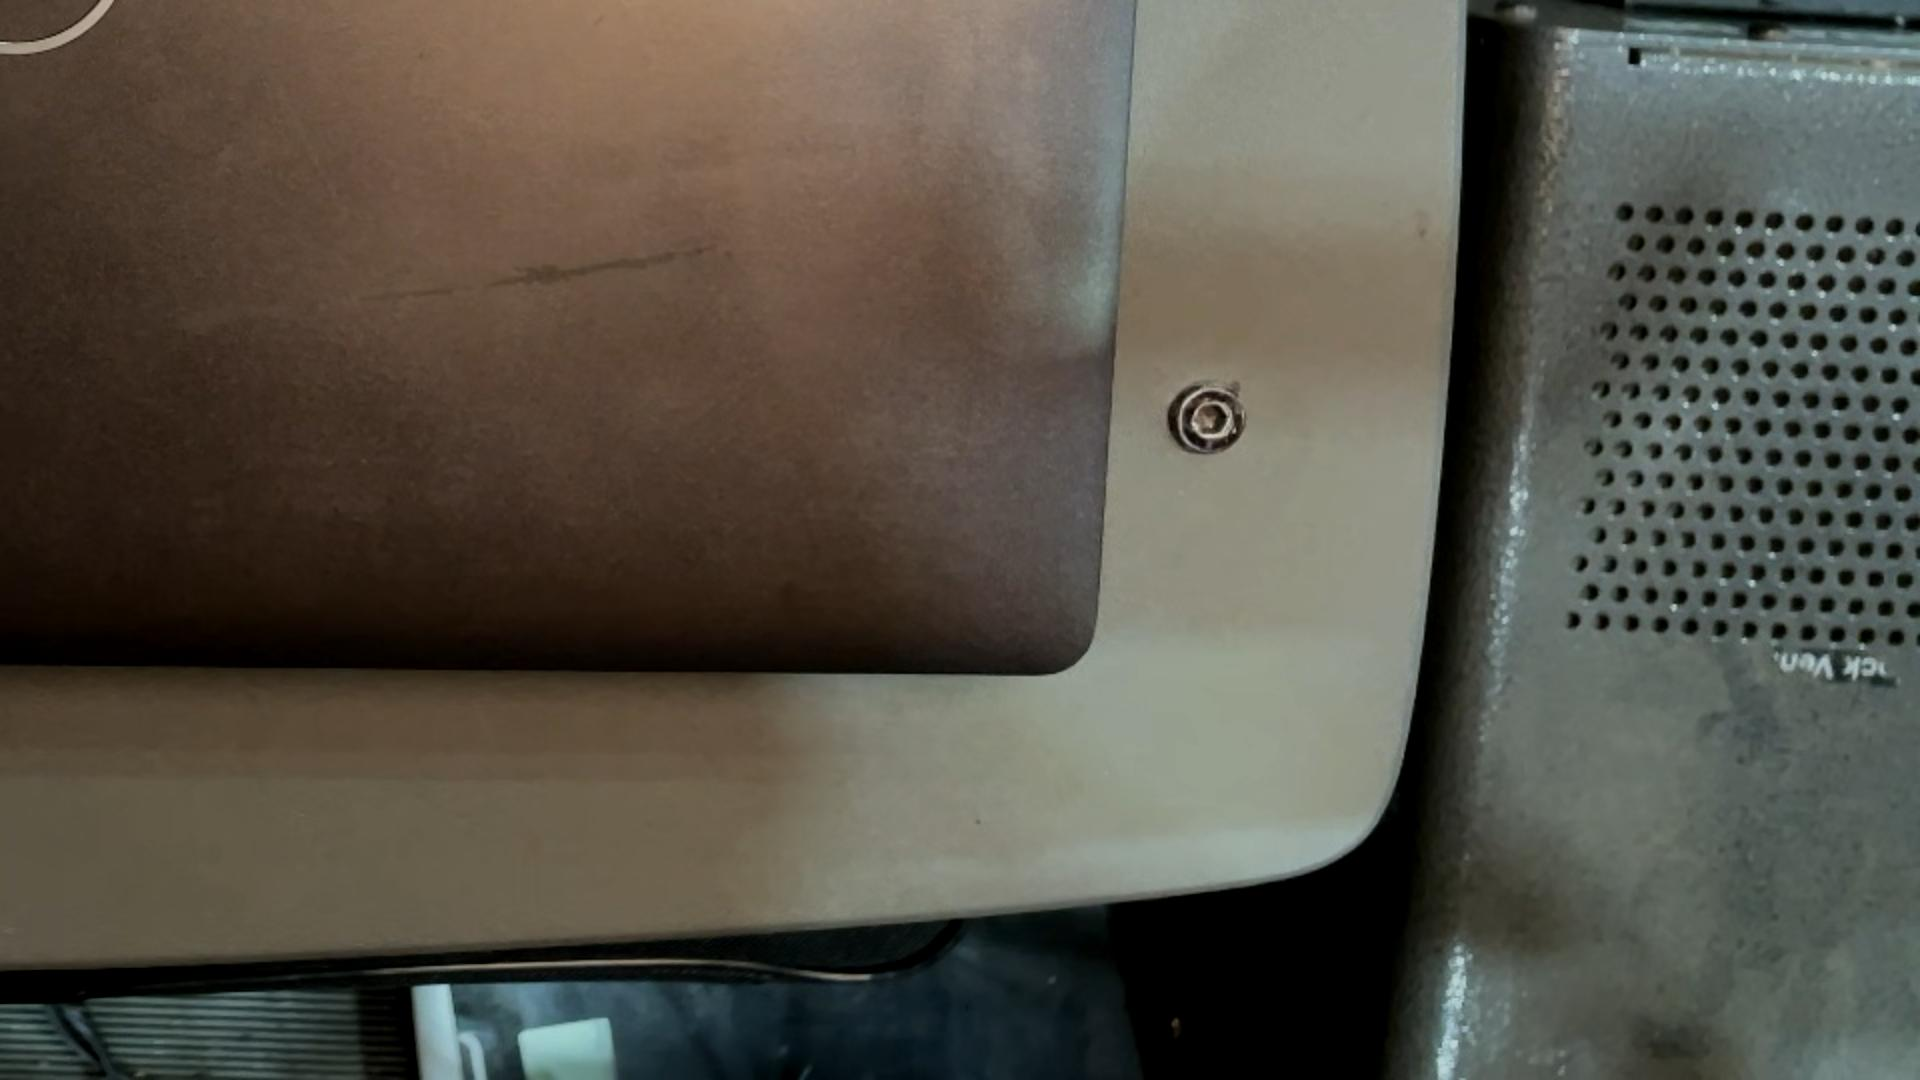scratches: (179, 239, 725, 334)
